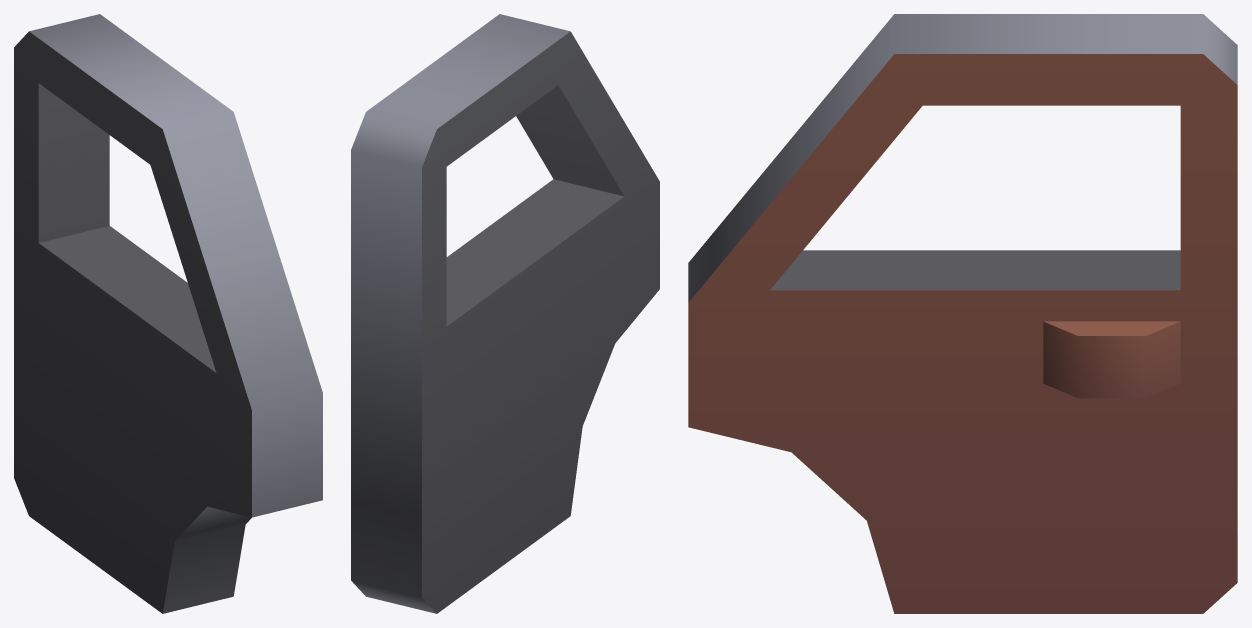
File: debris_door.glb
The picture shows the model from 3 angles, left to right: view 1: azimuth 30°, elevation 25°; view 2: azimuth 150°, elevation 25°; view 3: azimuth 270°, elevation 25°; orthographic projection. The views are drawn at different scales.
Parts seen in each view (by area): view 1: debris-door; view 2: debris-door; view 3: debris-door.
Boxes of the visible parts, x1,y1,x2,y2 form: debris-door: (14,14,322,613); debris-door: (351,14,659,613); debris-door: (688,14,1237,613).
Bounding box in the file's own units: 0.225 × 1.08 × 0.9574.
Materials: 1 (1 with a texture image).
